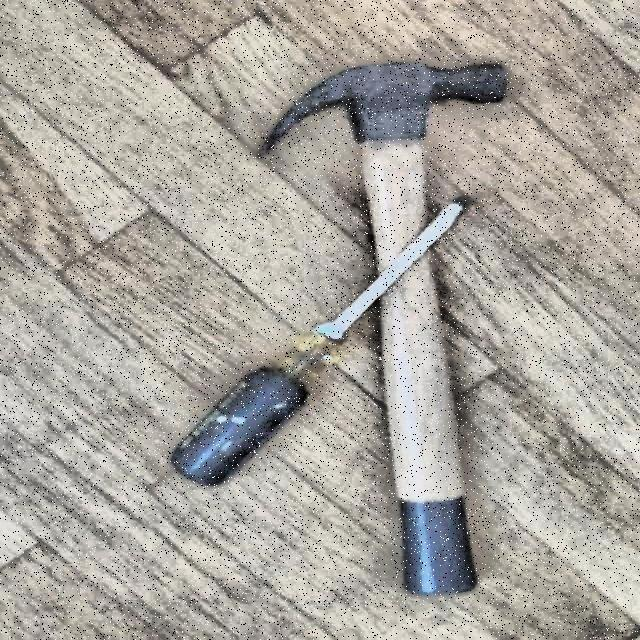screwdriver: (169, 194, 472, 488)
